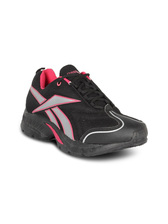shoes: (15, 63, 150, 157)
